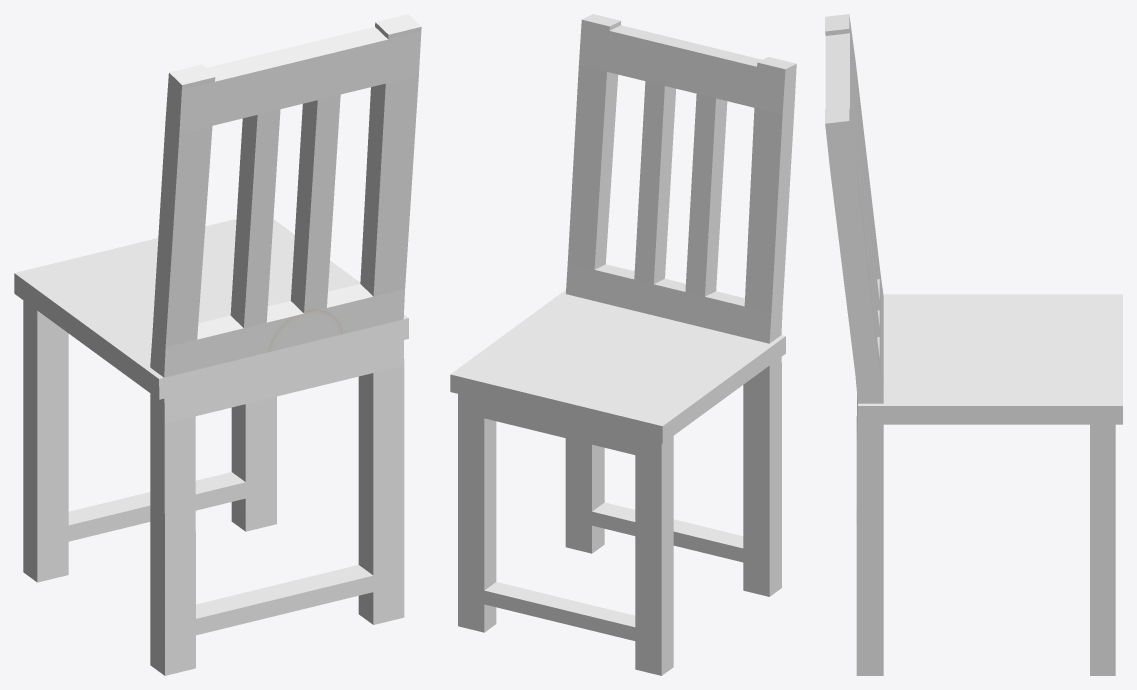
Rendered from Kitchen Chair.fbx.
The picture shows the model from 3 angles, left to right: view 1: azimuth 30°, elevation 25°; view 2: azimuth 150°, elevation 25°; view 3: azimuth 270°, elevation 25°; orthographic projection. The views are drawn at different scales.
Visible parts, largest first — view 1: Cube; view 2: Cube; view 3: Cube.
Boxes of the visible parts, x1,y1,x2,y2 form: Cube: (14,14,421,675); Cube: (450,14,796,675); Cube: (825,14,1122,675).
Size of the model in its own units: 110 by 125 by 256.
